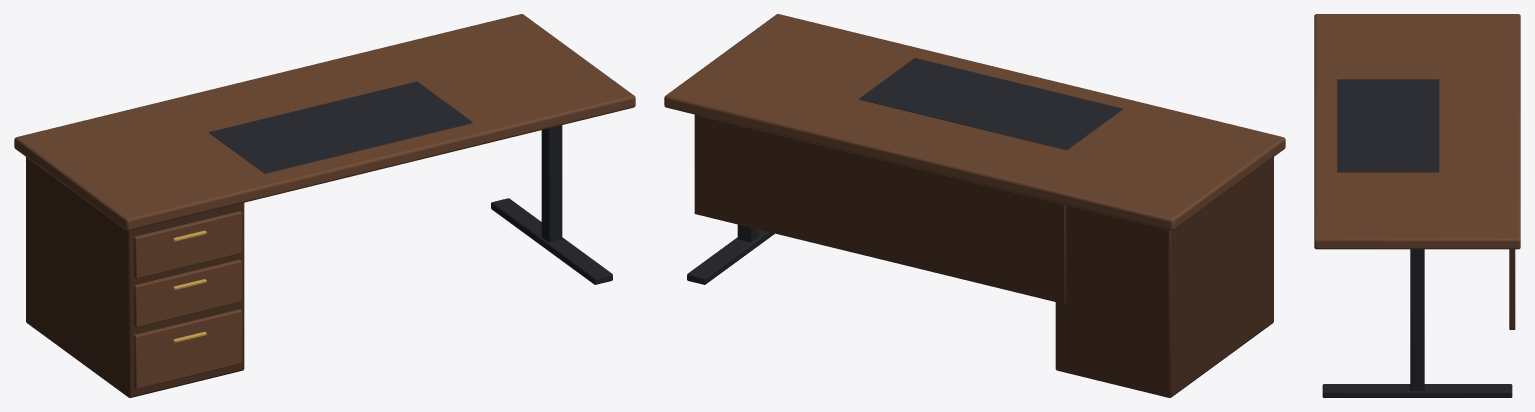
The model's file is desk_executive.fbx.
3 views of the same model, side by side, from view 1: azimuth 30°, elevation 25°; view 2: azimuth 150°, elevation 25°; view 3: azimuth 270°, elevation 25° (orthographic). The views are drawn at different scales.
Parts seen in each view (by area): view 1: DeskExecutive; view 2: DeskExecutive; view 3: DeskExecutive.
Part boxes in pixels (bbox=[...]): DeskExecutive: bbox=[14, 14, 635, 397]; DeskExecutive: bbox=[664, 14, 1285, 397]; DeskExecutive: bbox=[1314, 14, 1520, 397].
Bounding box in the file's own units: 2.2 × 0.764 × 0.85.
